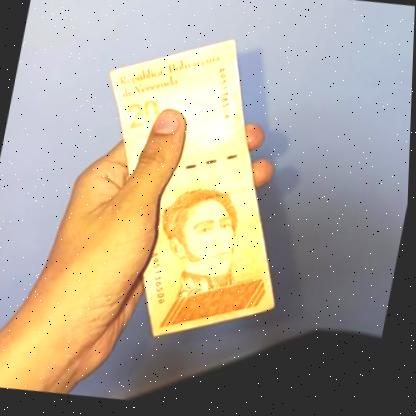twenty-front-vef: (61, 18, 328, 361)
